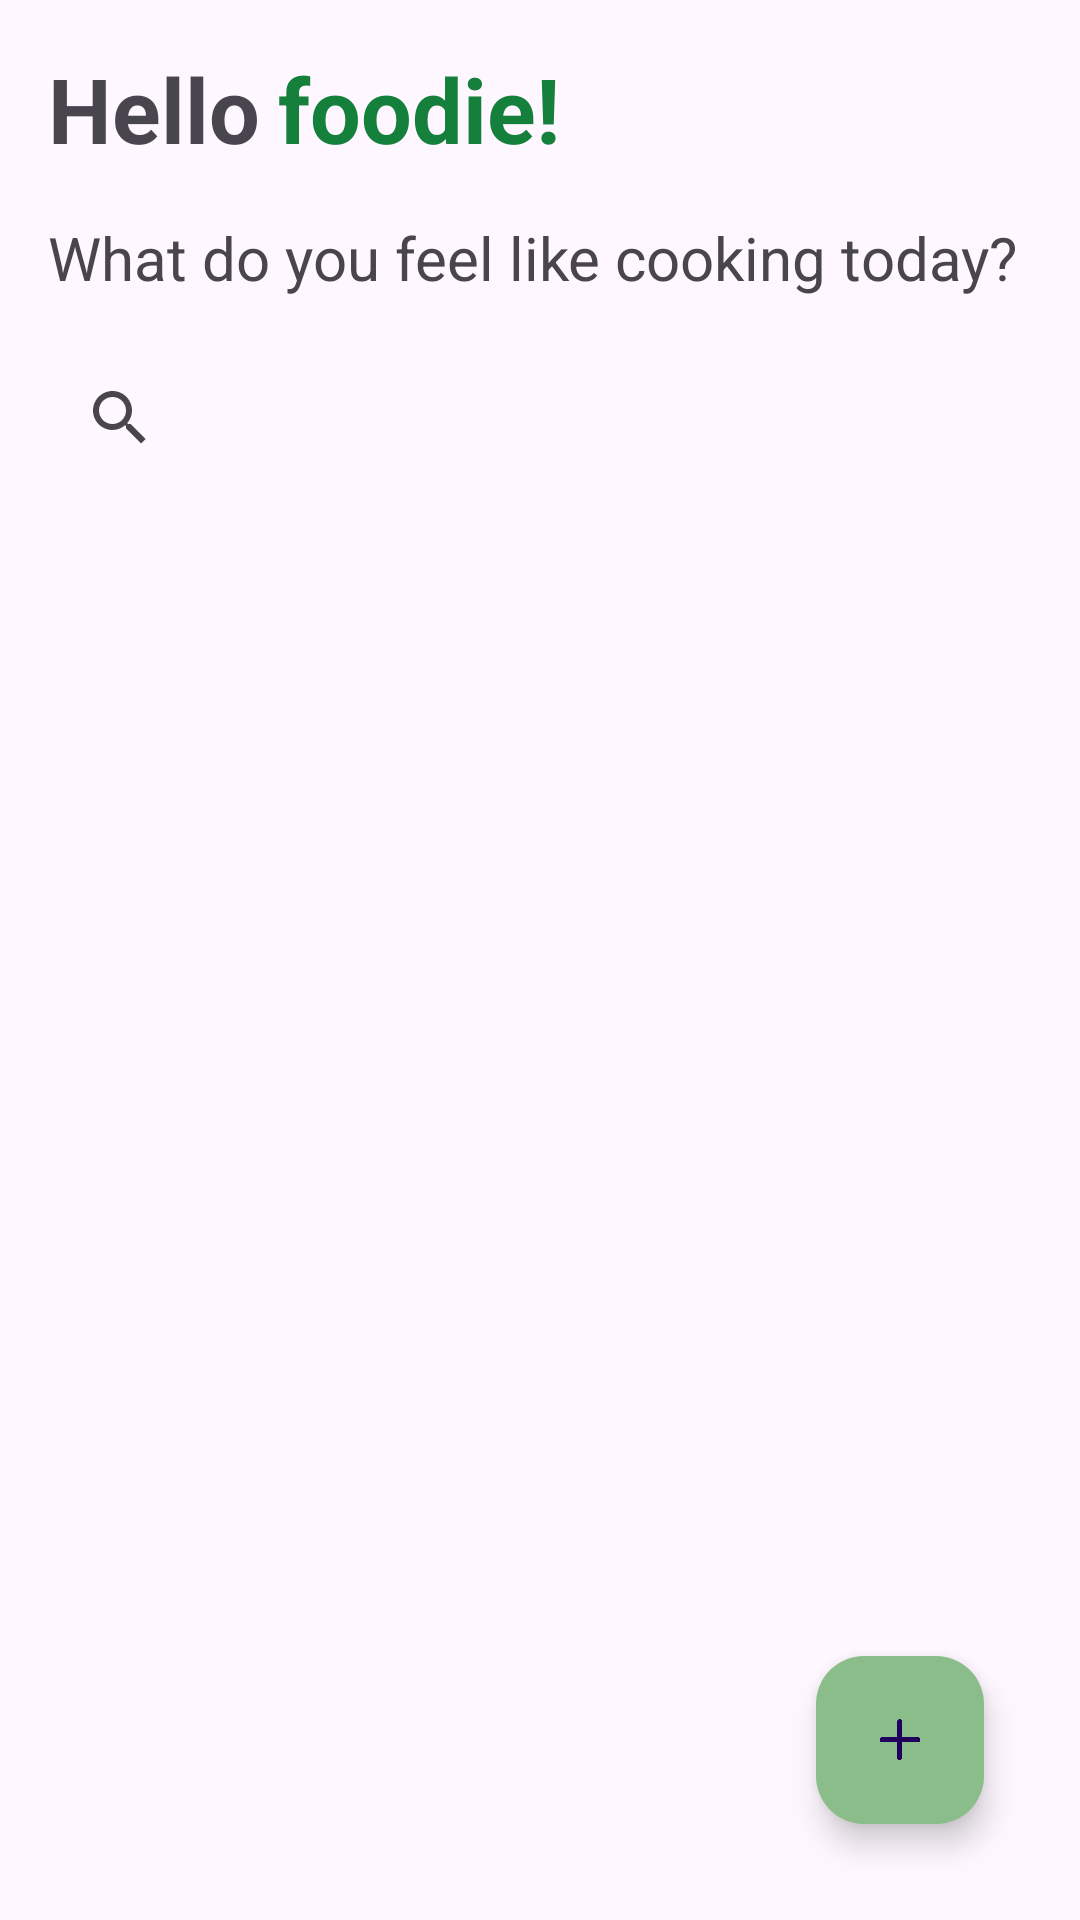

Screen size 1080×1920. Icon name, then its box in pixels as (x1, y1, x2, y2):
Add new item: (816, 1656, 984, 1824)
